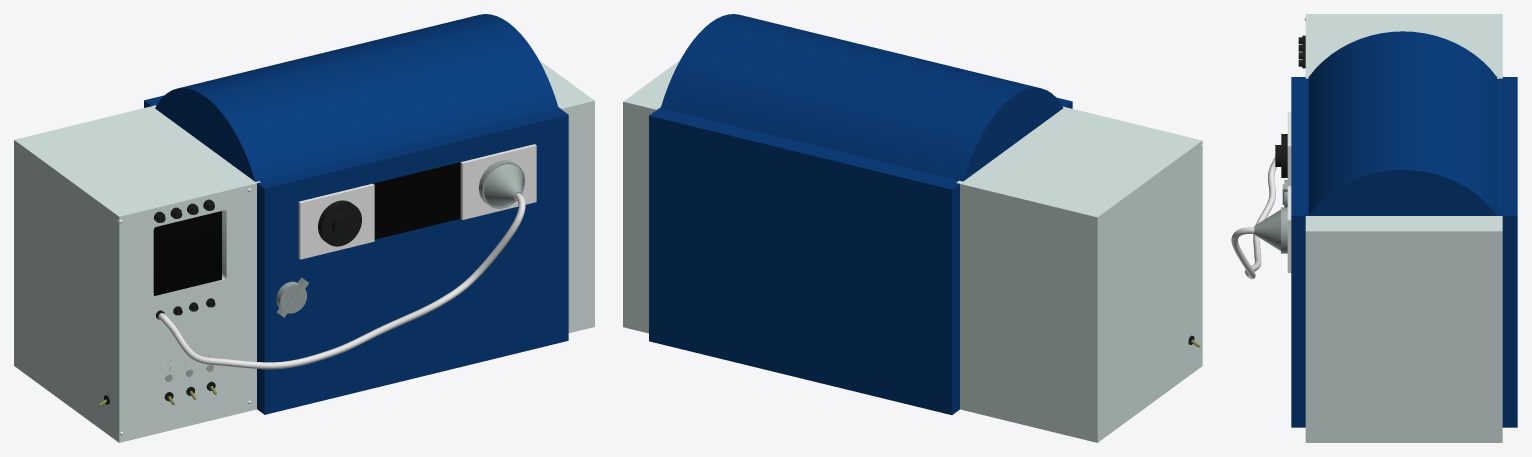
The picture shows the model from 3 angles, left to right: view 1: azimuth 30°, elevation 25°; view 2: azimuth 150°, elevation 25°; view 3: azimuth 270°, elevation 25°; orthographic projection. The views are drawn at different scales.
Visible parts, largest first — view 1: Пылевой блок, Box014, Box015, Glass1, Glass2, Cord, Pyl, Proba, ProbootbornShtoocer, Dozator, BlockHandle; view 2: Пылевой блок, Box014, Box015; view 3: Box015, Пылевой блок, Box014, Cord, ProbootbornShtoocer, Dozator, Proba, Pyl.
Boxes of the visible parts, <box> form: Пылевой блок: <box>144,14,568,414</box>; Box014: <box>14,105,260,442</box>; Box015: <box>539,60,594,332</box>; Glass1: <box>373,162,460,239</box>; Glass2: <box>153,211,221,295</box>; Cord: <box>158,193,525,369</box>; Pyl: <box>298,183,374,259</box>; Proba: <box>460,144,536,219</box>; ProbootbornShtoocer: <box>478,160,525,208</box>; Dozator: <box>318,200,361,246</box>; BlockHandle: <box>276,277,308,317</box>; Пылевой блок: <box>649,14,1072,414</box>; Box014: <box>956,106,1202,442</box>; Box015: <box>623,60,679,333</box>; Box015: <box>1305,216,1502,442</box>; Пылевой блок: <box>1291,31,1517,427</box>; Box014: <box>1305,14,1502,78</box>; Cord: <box>1231,157,1276,279</box>; ProbootbornShtoocer: <box>1254,207,1287,253</box>; Dozator: <box>1275,134,1287,177</box>; Proba: <box>1287,186,1291,272</box>; Pyl: <box>1287,112,1291,186</box>.
Bounding box in the file's own units: 718 × 389 × 392.
